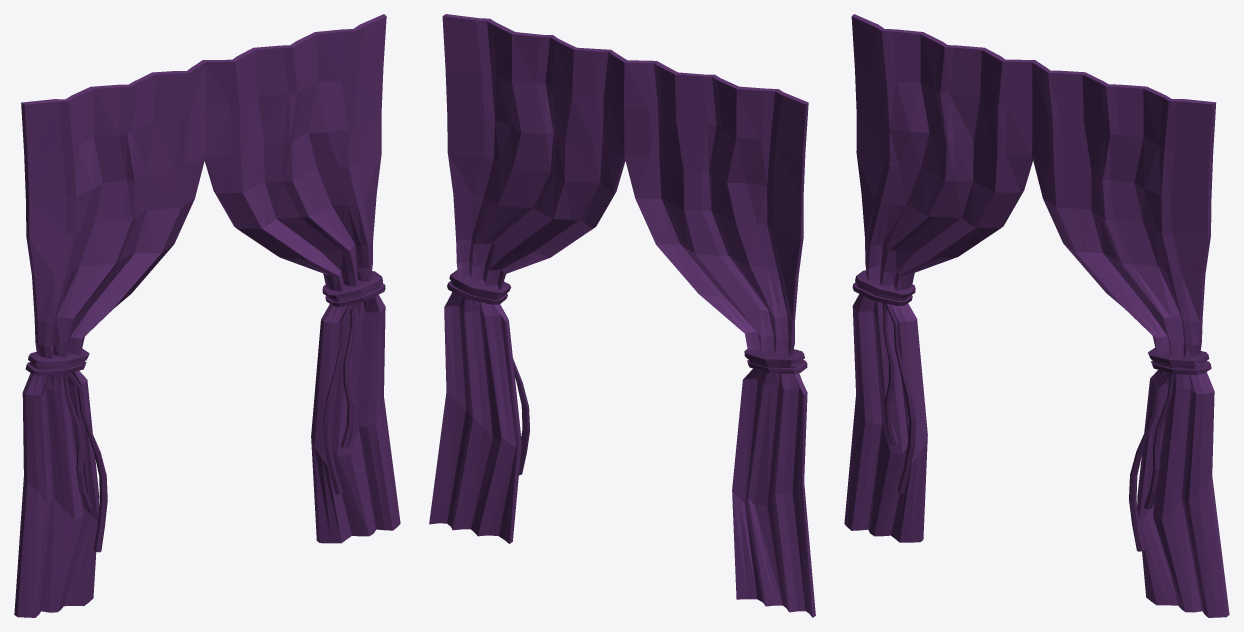
File: SFHW_Curtain_M_003.fbx
3 renders of one model, left to right at view 1: azimuth 30°, elevation 25°; view 2: azimuth 150°, elevation 25°; view 3: azimuth 330°, elevation 25°, orthographic.
Parts seen in each view (by area): view 1: SFHW_Curtain_M_003; view 2: SFHW_Curtain_M_003; view 3: SFHW_Curtain_M_003.
Boxes of the visible parts, x1,y1,x2,y2 form: SFHW_Curtain_M_003: [14, 14, 400, 617]; SFHW_Curtain_M_003: [429, 14, 815, 617]; SFHW_Curtain_M_003: [844, 14, 1229, 617].
Bounding box in the file's own units: 452 × 576 × 46.94.
